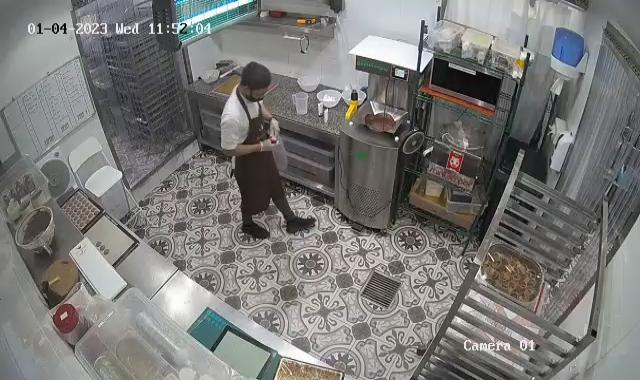no_hairnet: (237, 60, 272, 93)
